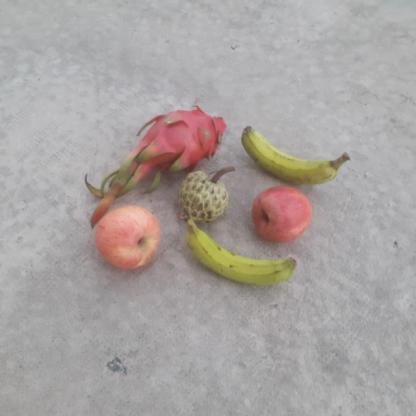annona: (177, 170, 231, 222)
apple: (90, 205, 166, 271)
banana: (186, 225, 301, 287), (244, 128, 340, 186), (248, 185, 321, 247)
pitaya: (143, 108, 230, 167)
